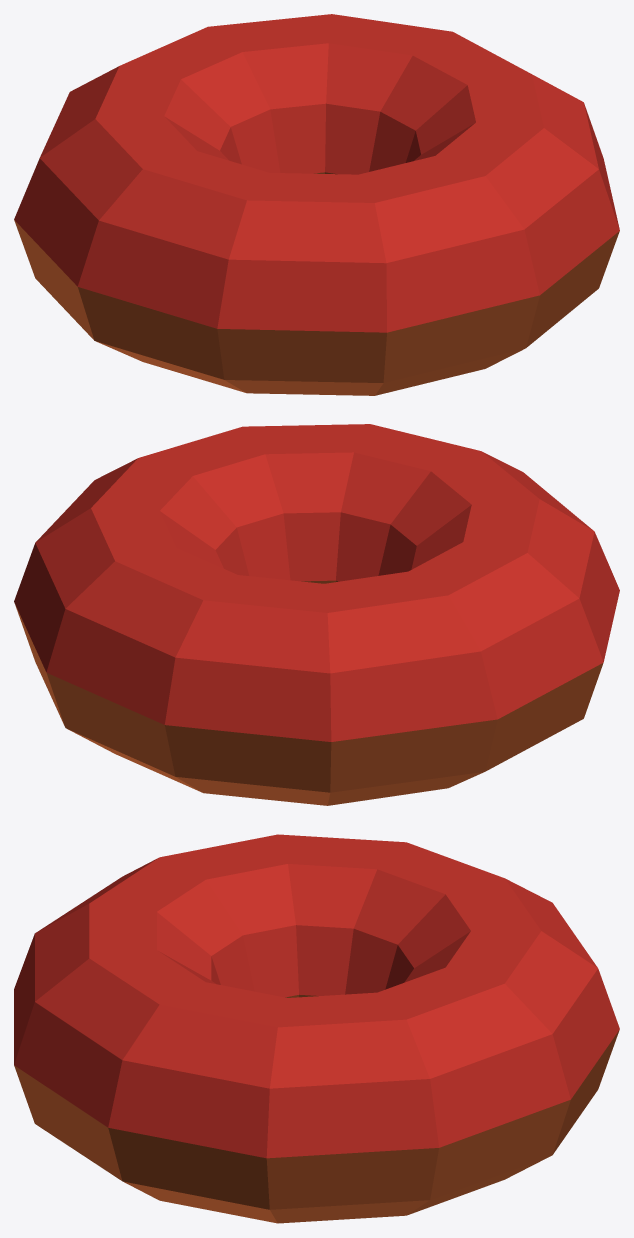
File: Donut.fbx
3 views of the same model, one above another, from view 1: azimuth 30°, elevation 25°; view 2: azimuth 150°, elevation 25°; view 3: azimuth 270°, elevation 25° (orthographic).
Visible parts, largest first — view 1: Torus004; view 2: Torus004; view 3: Torus004.
Part boxes in pixels (x1,y1,x2,y2): Torus004: (14, 14, 619, 395); Torus004: (14, 424, 619, 805); Torus004: (14, 834, 619, 1223).
Bounding box in the file's own units: 90.57 × 31.74 × 88.9.
